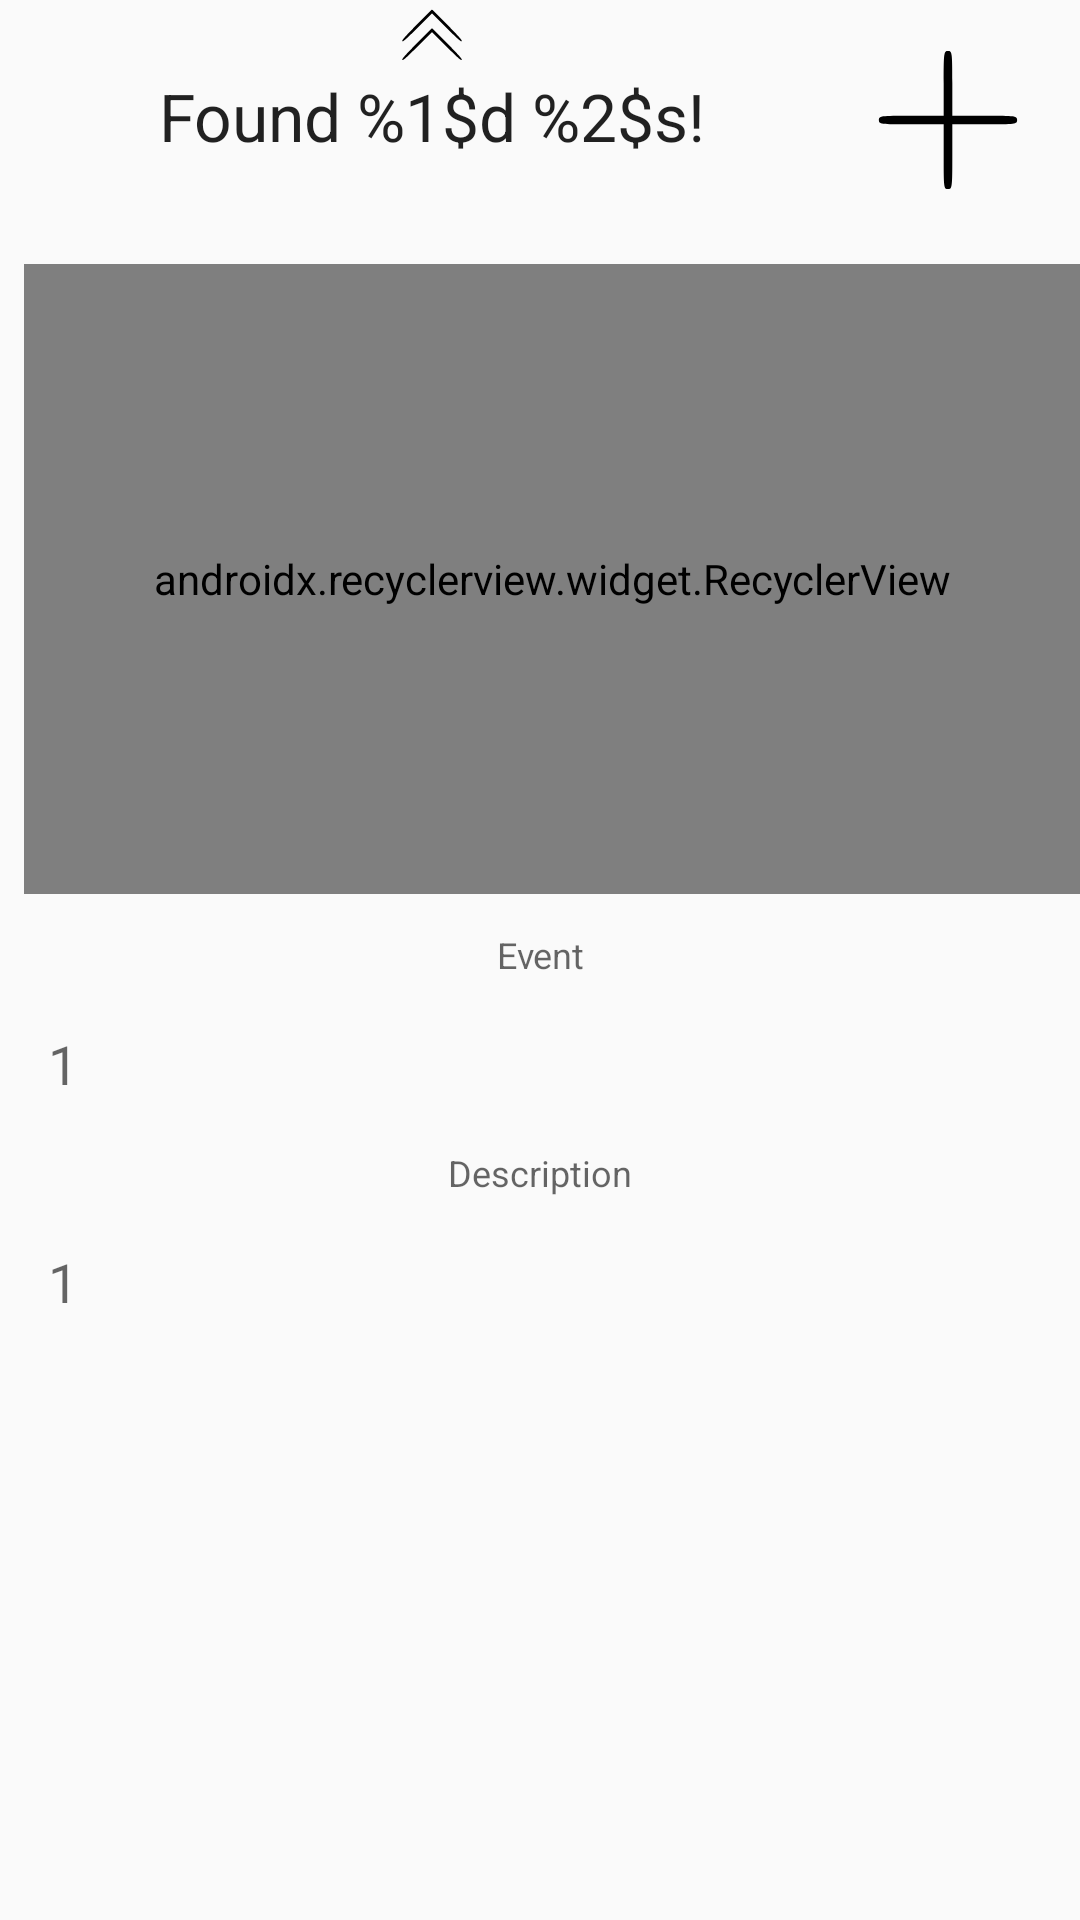

Icons on this 1080px×1920px Android screen, each with its box as (x1, y1, x2, y2):
plus: (878, 51, 1017, 189)
